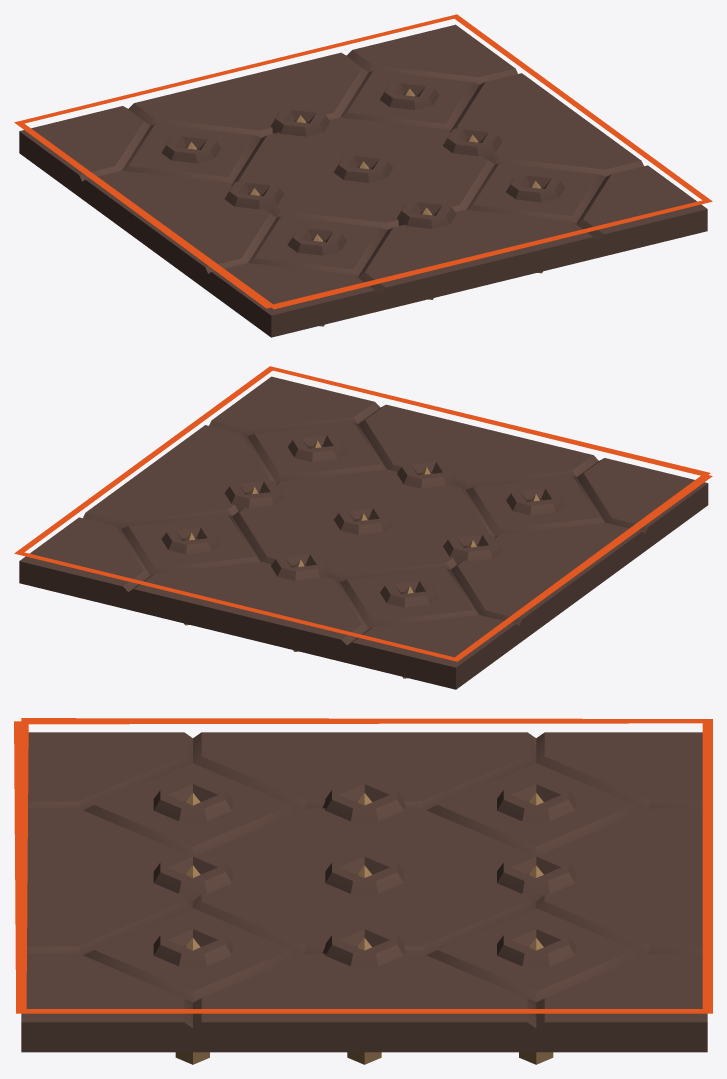
Rendered from trap.fbx.
3 views of the same model, one above another, from view 1: azimuth 30°, elevation 25°; view 2: azimuth 150°, elevation 25°; view 3: azimuth 270°, elevation 25° (orthographic). The views are drawn at different scales.
Visible parts, largest first — view 1: trap; view 2: trap; view 3: trap, Spikes.
Boxes of the visible parts, box(x1,y1,x2,y2) form: trap: box(14, 14, 712, 337); trap: box(14, 366, 712, 689); trap: box(14, 718, 712, 1052); Spikes: box(175, 793, 553, 1064).
Bounding box in the file's own units: 2.85 × 0.54 × 2.85.
